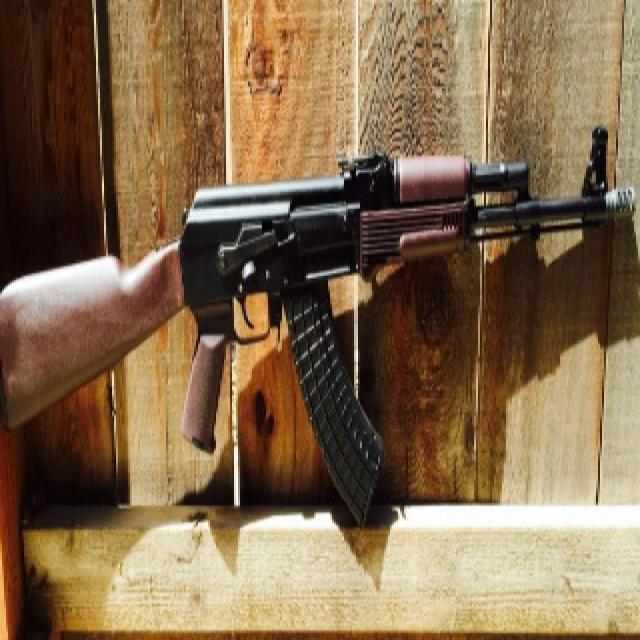rifle: (3, 125, 639, 526)
